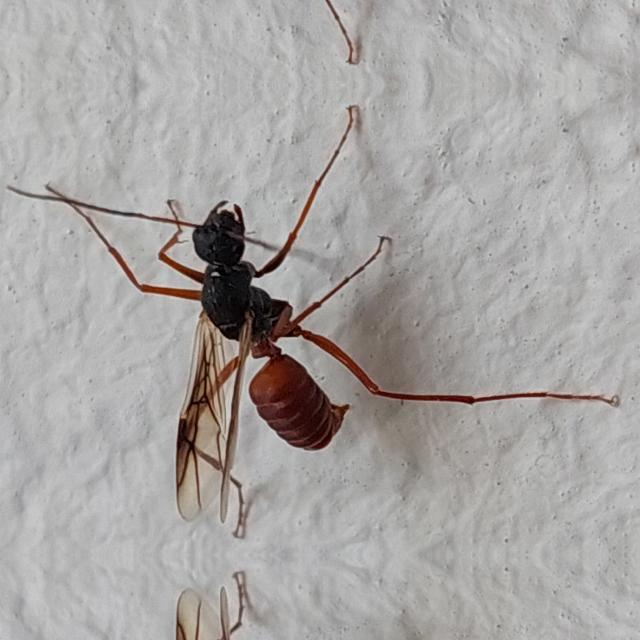Cataglyphis: (89, 158, 409, 506)
